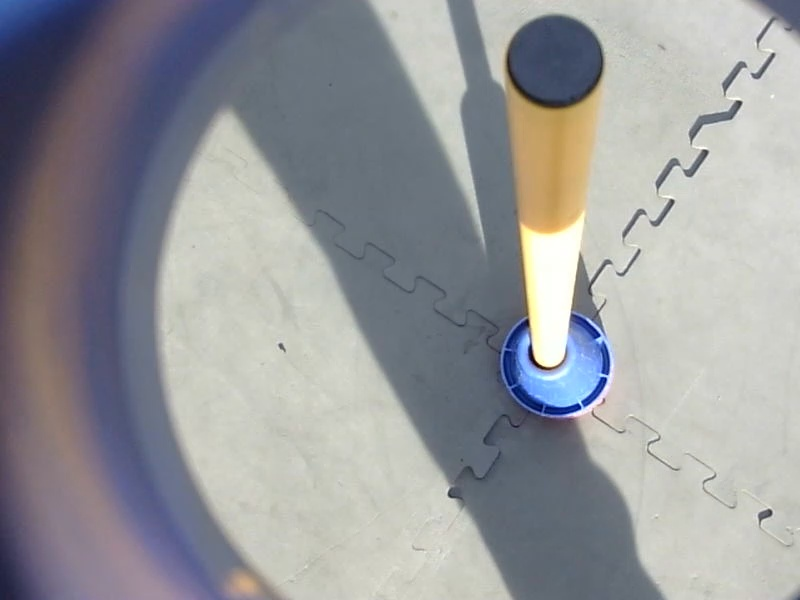tip: (497, 10, 613, 119)
